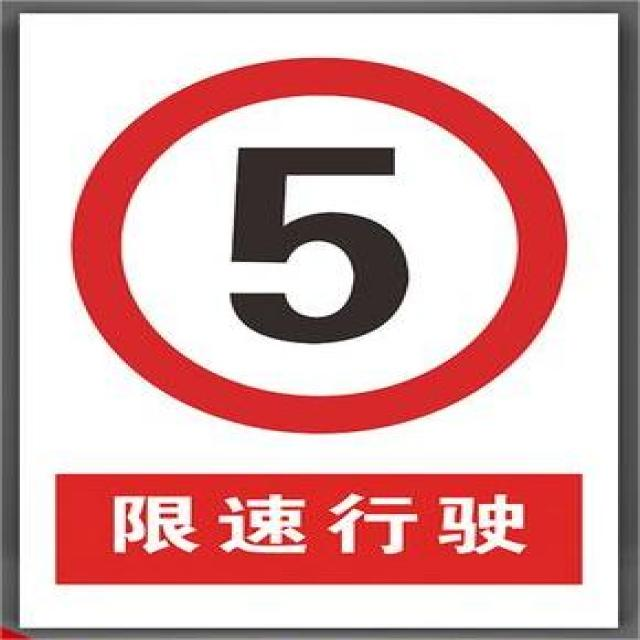speed limit 10: (64, 56, 569, 435)
